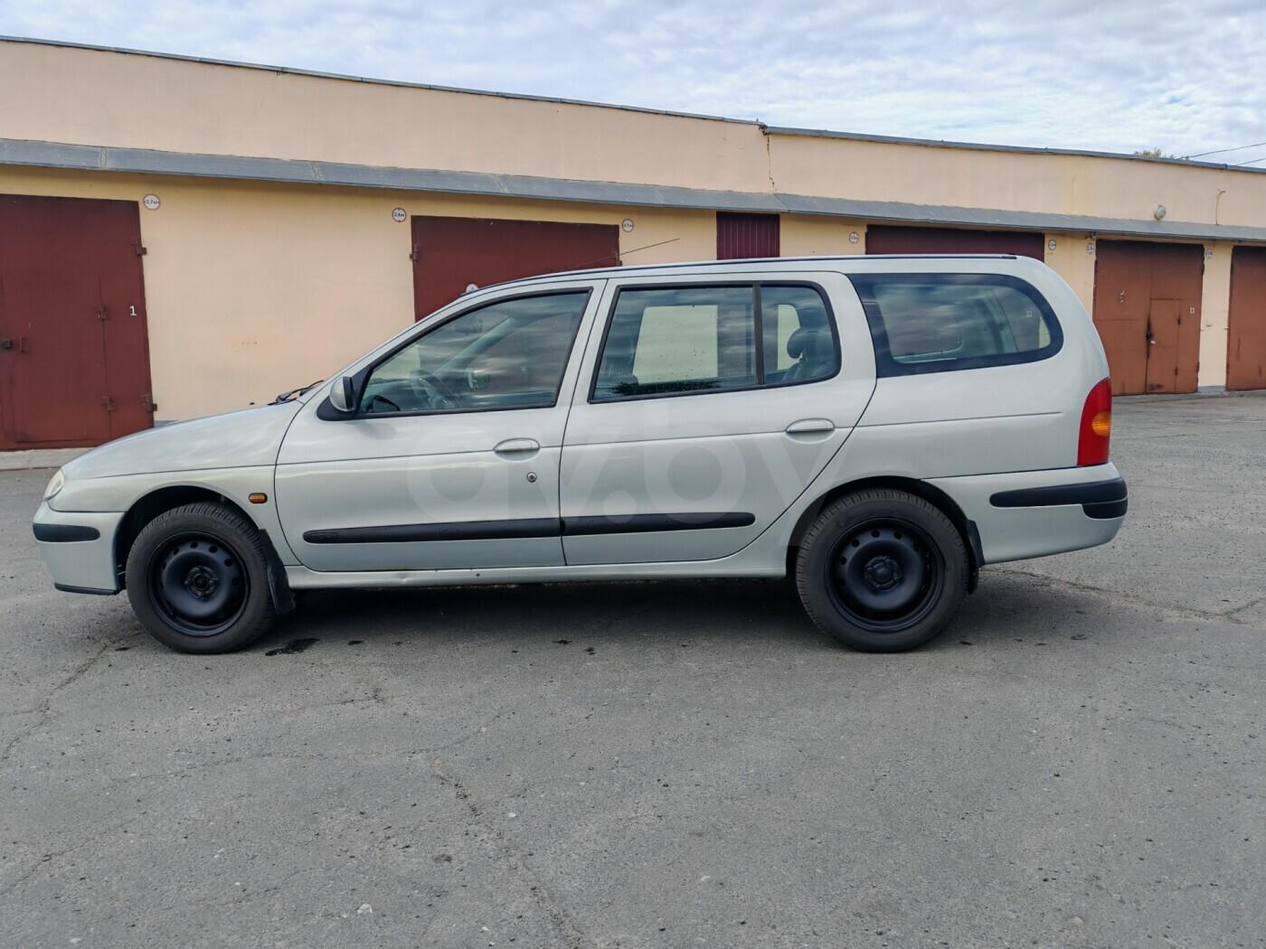Megane_1999-2003: (28, 240, 1125, 660)
